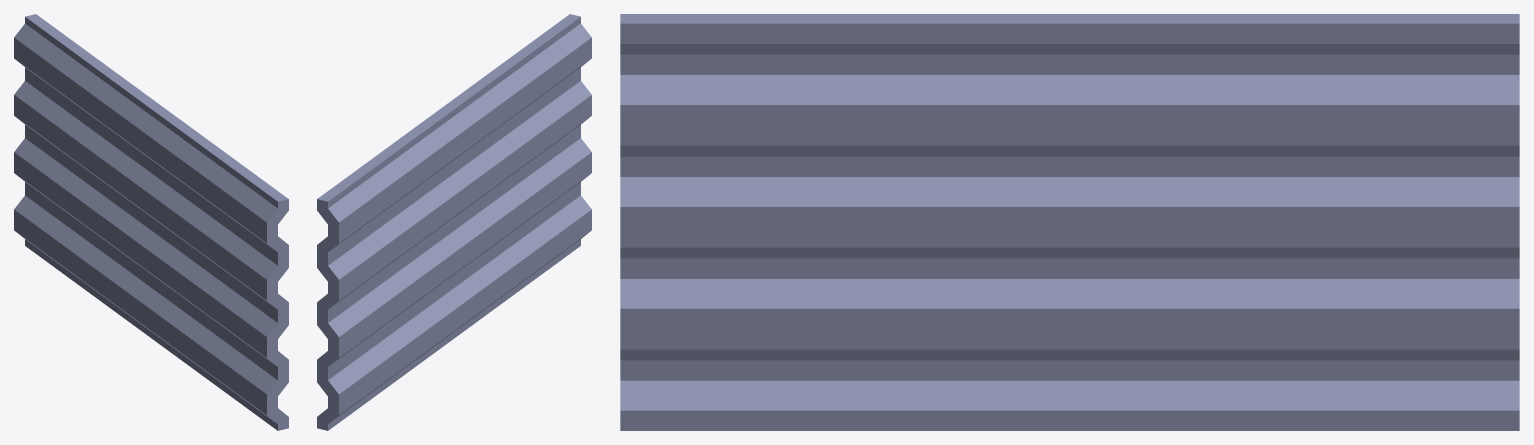
Rendered from plating-wide.obj.
3 renders of one model, left to right at view 1: azimuth 30°, elevation 25°; view 2: azimuth 150°, elevation 25°; view 3: azimuth 270°, elevation 25°, orthographic. The views are drawn at different scales.
Bounding box in the file's own units: 0.1 × 1 × 2.
